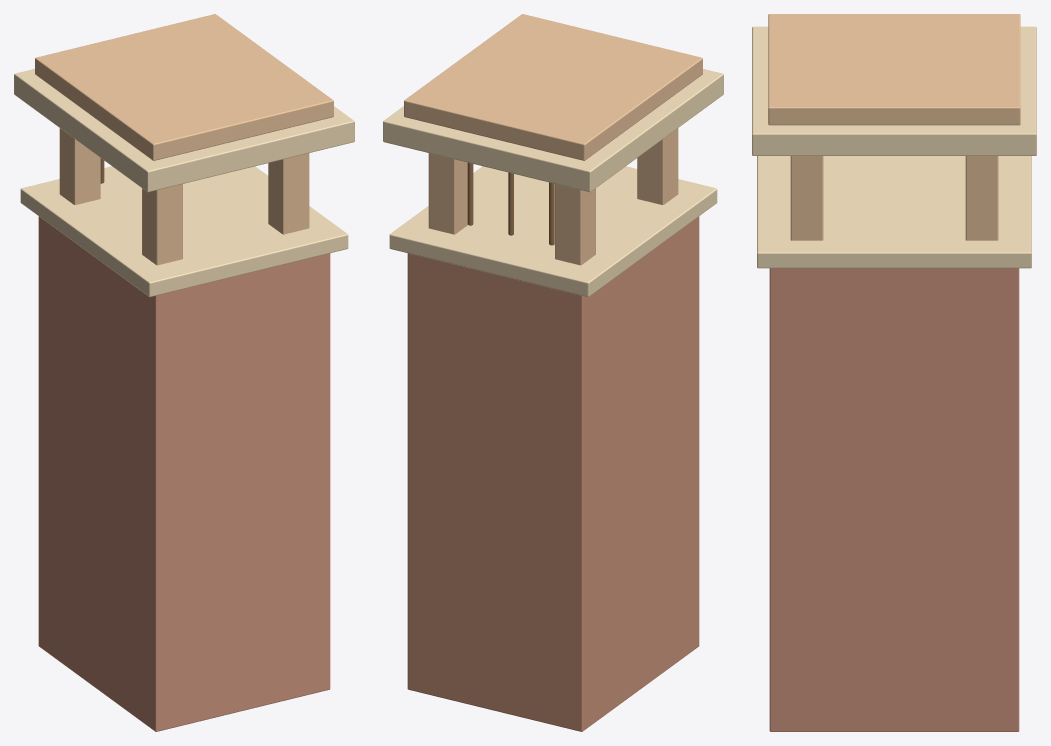
File: SM_WindcatcherTower.fbx
The picture shows the model from 3 angles, left to right: view 1: azimuth 30°, elevation 25°; view 2: azimuth 150°, elevation 25°; view 3: azimuth 270°, elevation 25°; orthographic projection. The views are drawn at different scales.
Parts seen in each view (by area): view 1: SM_WindcatcherTower_Export; view 2: SM_WindcatcherTower_Export; view 3: SM_WindcatcherTower_Export.
Part boxes in pixels (x1,y1,x2,y2): SM_WindcatcherTower_Export: [14, 14, 354, 731]; SM_WindcatcherTower_Export: [383, 14, 723, 731]; SM_WindcatcherTower_Export: [752, 14, 1036, 731].
Bounding box in the file's own units: 510 × 570 × 1383.
